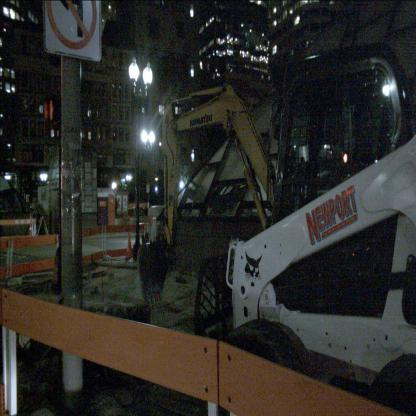movable_object-trafficcone: (125, 231, 133, 259), (28, 212, 33, 243)
